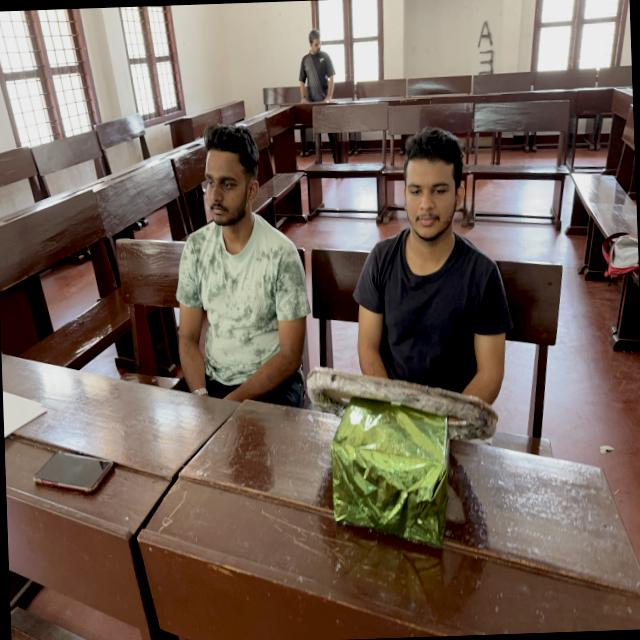Helmet: (350, 226, 512, 414), (168, 214, 313, 414)
